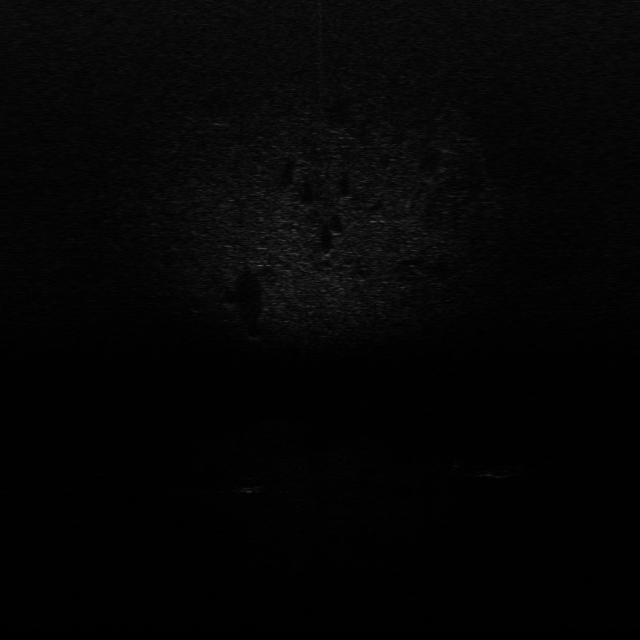ball: (234, 471, 270, 496)
human body: (447, 457, 562, 482)
